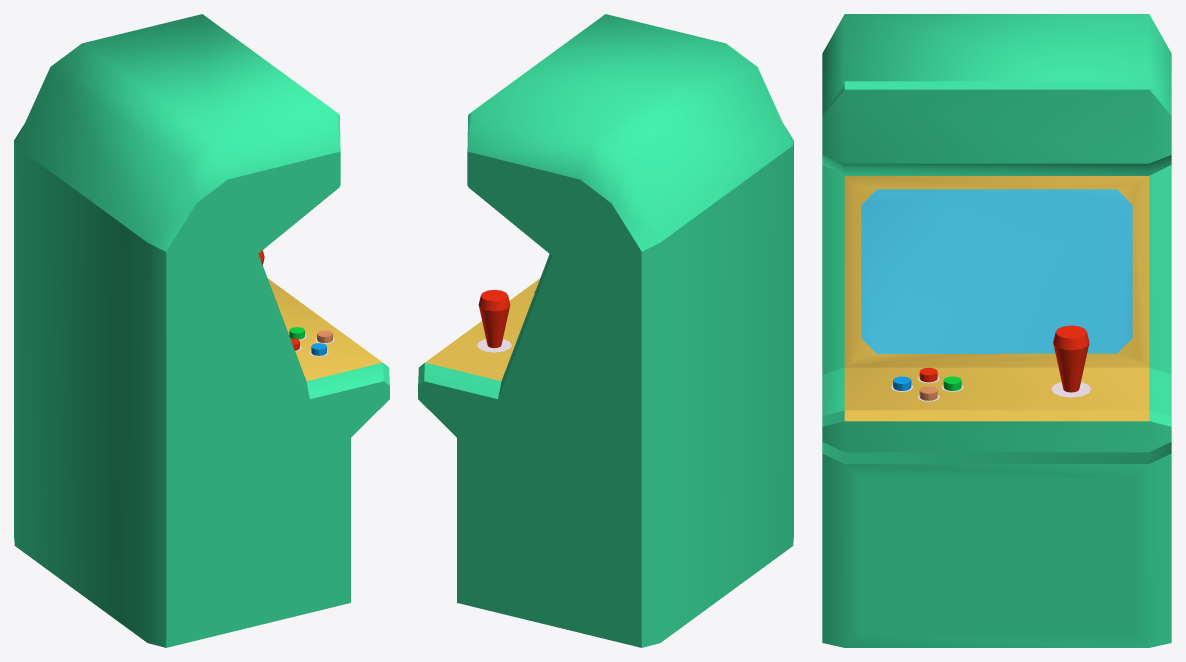
File: arcade_model.FBX
3 renders of one model, left to right at view 1: azimuth 30°, elevation 25°; view 2: azimuth 150°, elevation 25°; view 3: azimuth 270°, elevation 25°, orthographic. The views are drawn at different scales.
Parts seen in each view (by area): view 1: Cylinder003; view 2: Cylinder003; view 3: Cylinder003.
Boxes of the visible parts, x1=… form: Cylinder003: x1=14, y1=14, x2=389, y2=647; Cylinder003: x1=418, y1=14, x2=793, y2=647; Cylinder003: x1=822, y1=14, x2=1171, y2=647.
Size of the model in its own units: 2.08 by 3.99 by 2.27.
